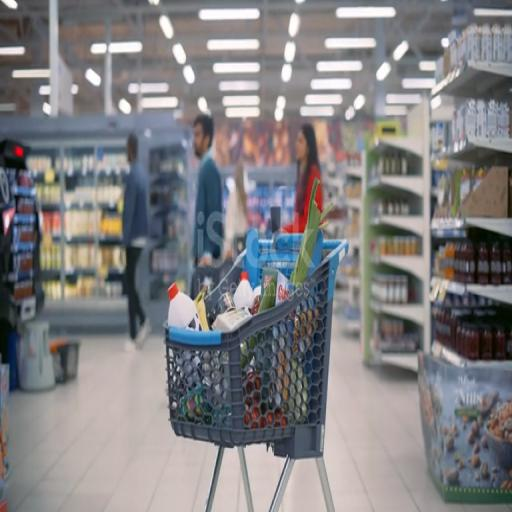shopping_cart: (162, 227, 351, 512)
